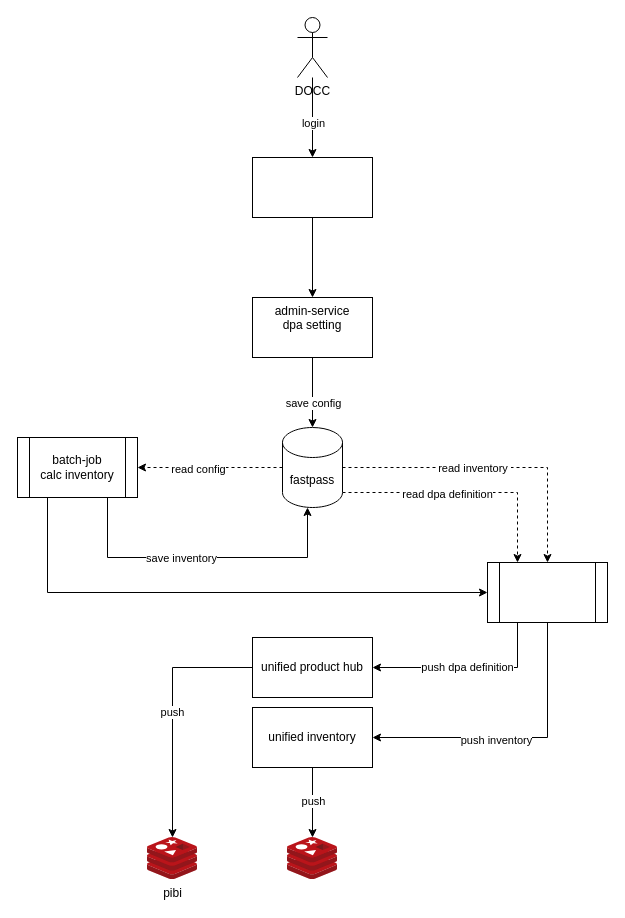
Some shapes in this 625 by 918 pixel diagram are drawn without their labels. Here are the shapes that lost their labels. From the top down, the centre of each, then its label:
point 312,187: admin-ui
point 547,592: inventory & product updater
point 312,858: inventory
